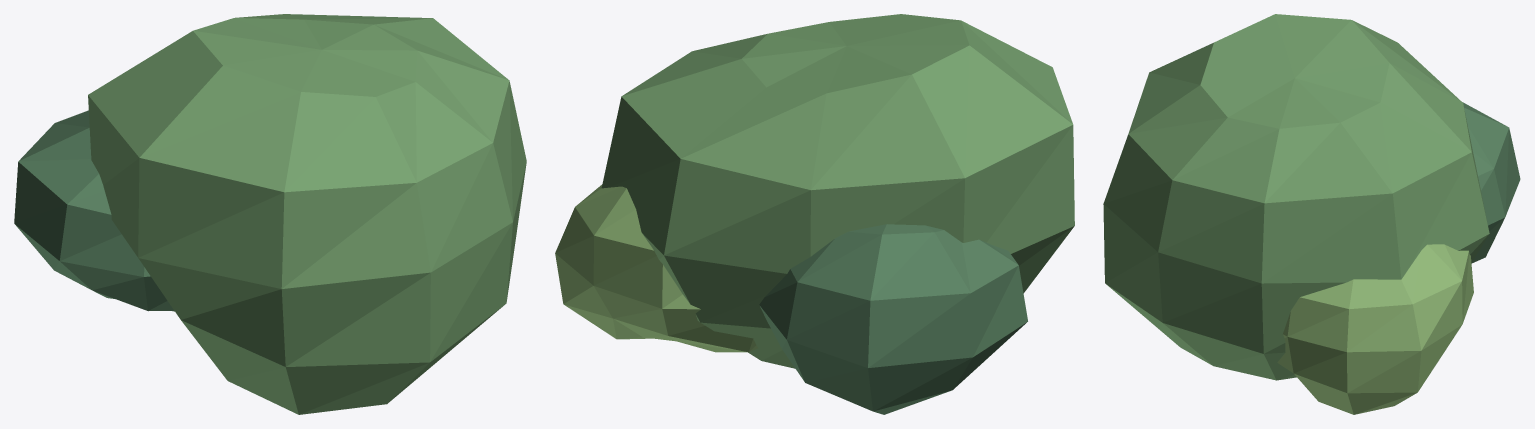
Rendered from bush_small.glb.
3 views of the same model, side by side, from view 1: azimuth 30°, elevation 25°; view 2: azimuth 150°, elevation 25°; view 3: azimuth 270°, elevation 25° (orthographic). The views are drawn at different scales.
Parts seen in each view (by area): view 1: bush_small; view 2: bush_small; view 3: bush_small.
Part boxes in pixels (bbox=[...]): bush_small: bbox=[14, 14, 526, 414]; bush_small: bbox=[555, 14, 1074, 414]; bush_small: bbox=[1103, 14, 1520, 414].
Bounding box in the file's own units: 0.8934 × 0.638 × 0.834.
